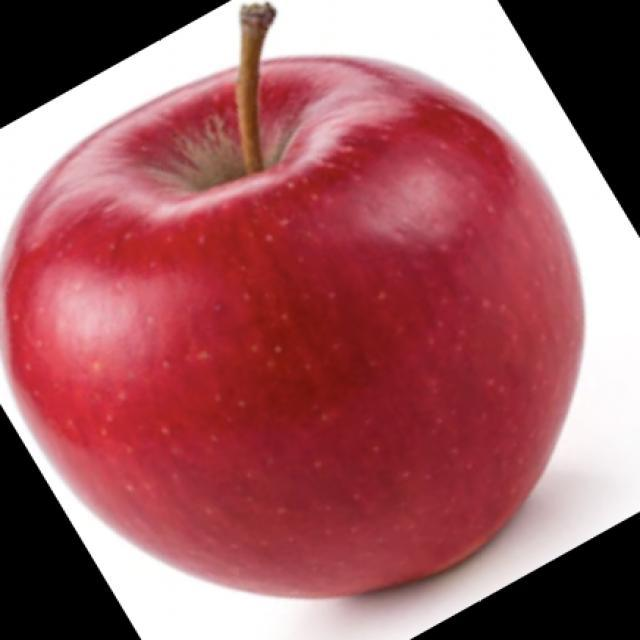Fresh Apple: (15, 55, 557, 602)
